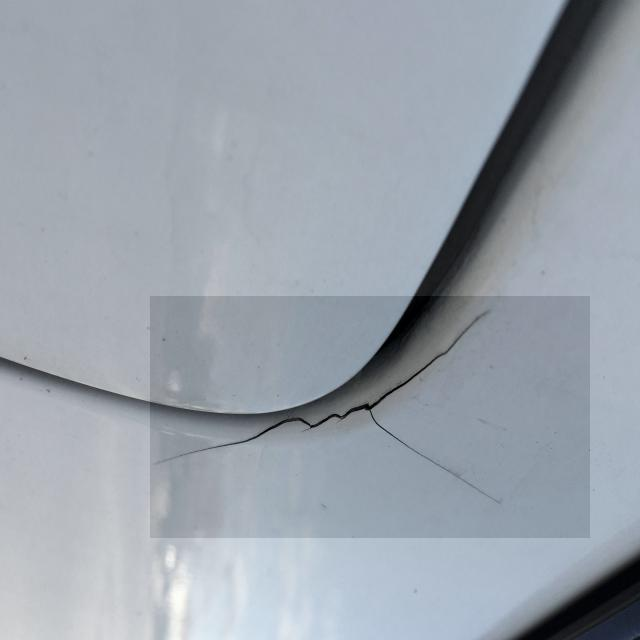crack: (151, 298, 591, 539)
